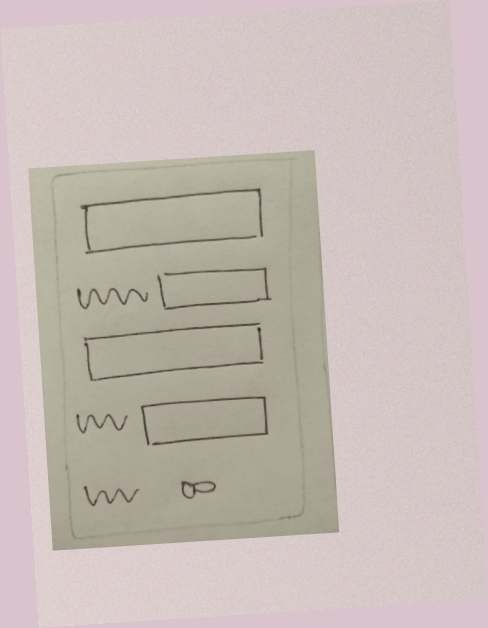switch: (171, 471, 225, 504)
text: (71, 279, 151, 316), (77, 476, 144, 513), (72, 405, 134, 442)
text_input: (75, 185, 268, 259), (76, 318, 272, 385), (135, 390, 277, 451), (153, 260, 275, 313)
